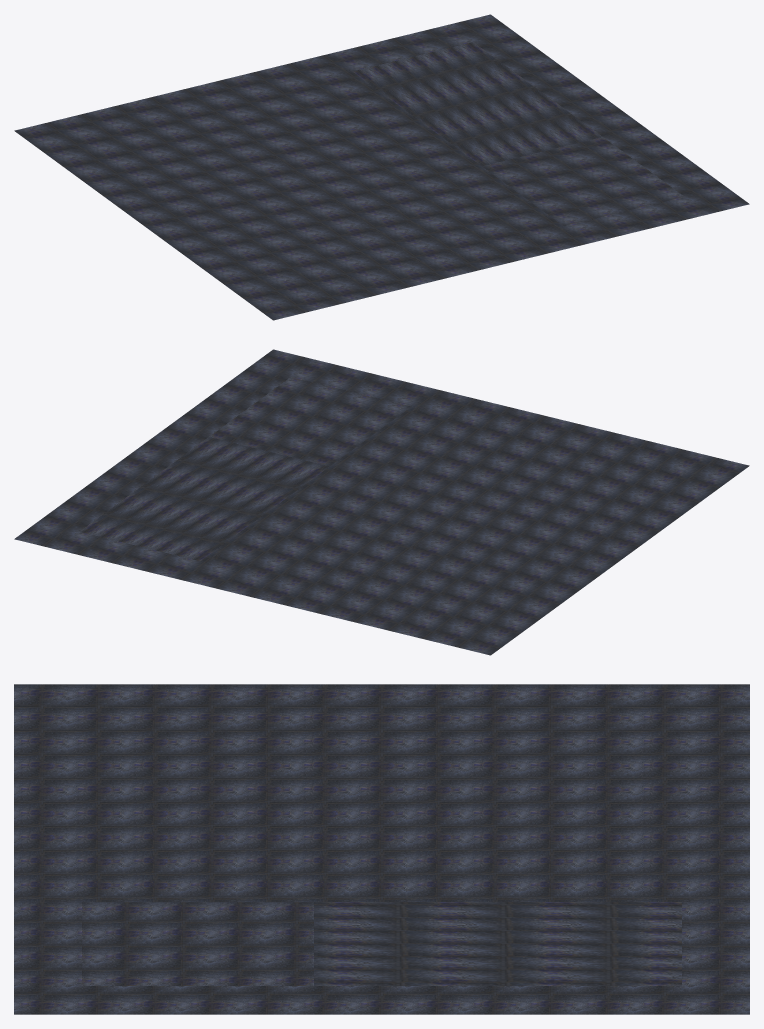
The model's file is terrain-abyss-chancel-floor.glb.
3 views of the same model, one above another, from view 1: azimuth 30°, elevation 25°; view 2: azimuth 150°, elevation 25°; view 3: azimuth 270°, elevation 25° (orthographic). The views are drawn at different scales.
Visible parts, largest first — view 1: terrain-abyss-chancel-apron-001, terrain-abyss-chancel-slab-002, terrain-abyss-chancel-slab-001, terrain-abyss-chancel-slab-003, terrain-abyss-chancel-slab-004; view 2: terrain-abyss-chancel-apron-001, terrain-abyss-chancel-slab-002, terrain-abyss-chancel-slab-001, terrain-abyss-chancel-slab-003, terrain-abyss-chancel-slab-004; view 3: terrain-abyss-chancel-apron-001, terrain-abyss-chancel-slab-002, terrain-abyss-chancel-slab-001, terrain-abyss-chancel-slab-003, terrain-abyss-chancel-slab-004.
Boxes of the visible parts, box(x1,y1,x2,y2) form: terrain-abyss-chancel-apron-001: box(14, 14, 749, 320); terrain-abyss-chancel-slab-002: box(207, 71, 563, 261); terrain-abyss-chancel-slab-001: box(79, 107, 417, 292); terrain-abyss-chancel-slab-003: box(352, 42, 602, 166); terrain-abyss-chancel-slab-004: box(482, 137, 684, 225); terrain-abyss-chancel-apron-001: box(14, 349, 749, 655); terrain-abyss-chancel-slab-002: box(200, 406, 556, 596); terrain-abyss-chancel-slab-001: box(346, 442, 684, 627); terrain-abyss-chancel-slab-003: box(79, 437, 329, 560); terrain-abyss-chancel-slab-004: box(209, 377, 411, 466); terrain-abyss-chancel-apron-001: box(14, 684, 749, 1014); terrain-abyss-chancel-slab-002: box(82, 801, 681, 901); terrain-abyss-chancel-slab-001: box(82, 713, 681, 801); terrain-abyss-chancel-slab-003: box(314, 902, 681, 985); terrain-abyss-chancel-slab-004: box(82, 902, 313, 985).
Size of the model in its own units: 32.2 by 0.002 by 30.33.
5 materials, 5 textured.
